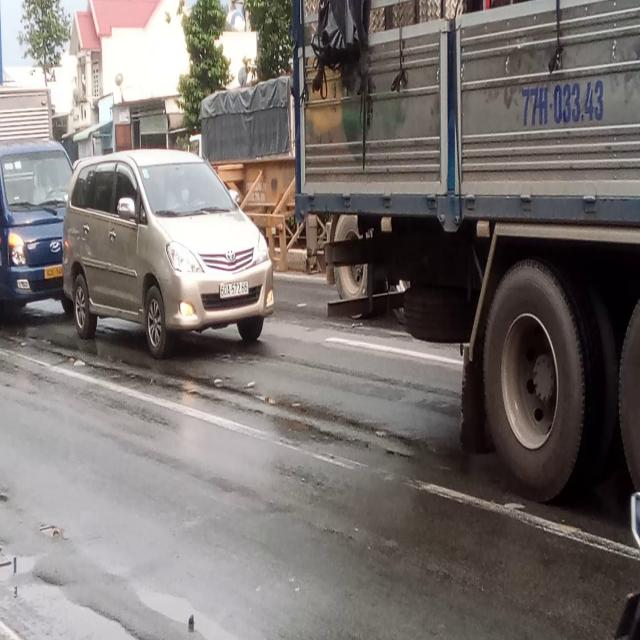bien_trang: (218, 278, 252, 302)
